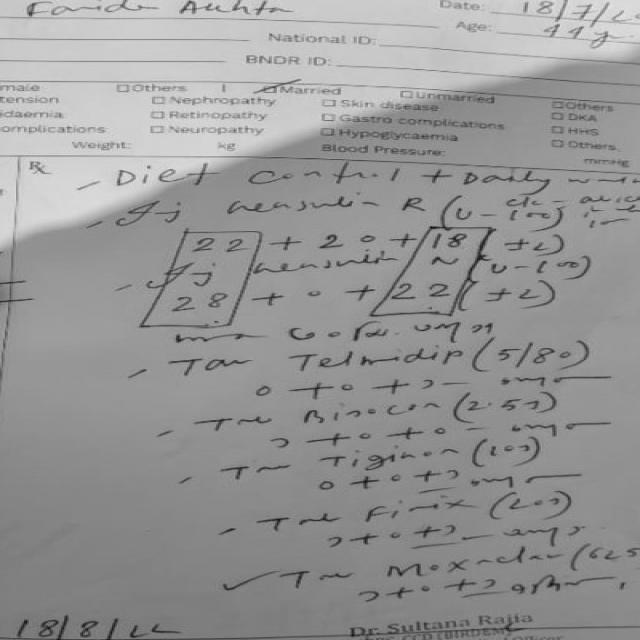medicine: (377, 548, 567, 580), (276, 346, 480, 374), (286, 398, 448, 428), (340, 496, 483, 525), (316, 446, 462, 474)
